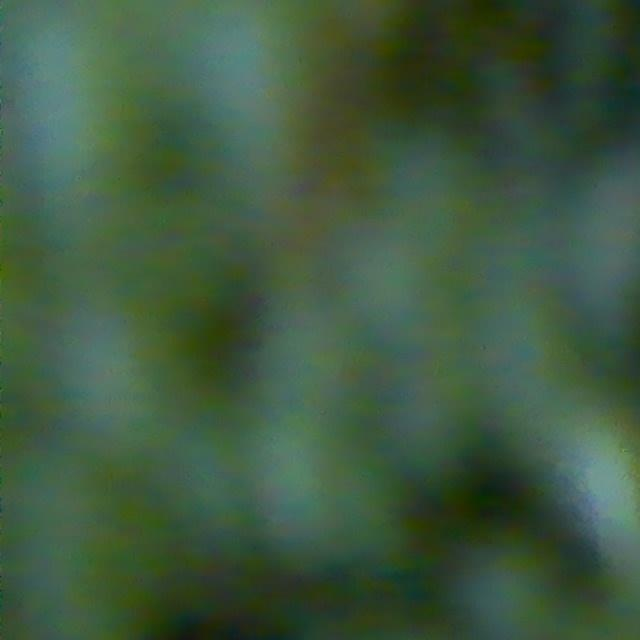SeaGrape: (453, 540, 565, 640)
